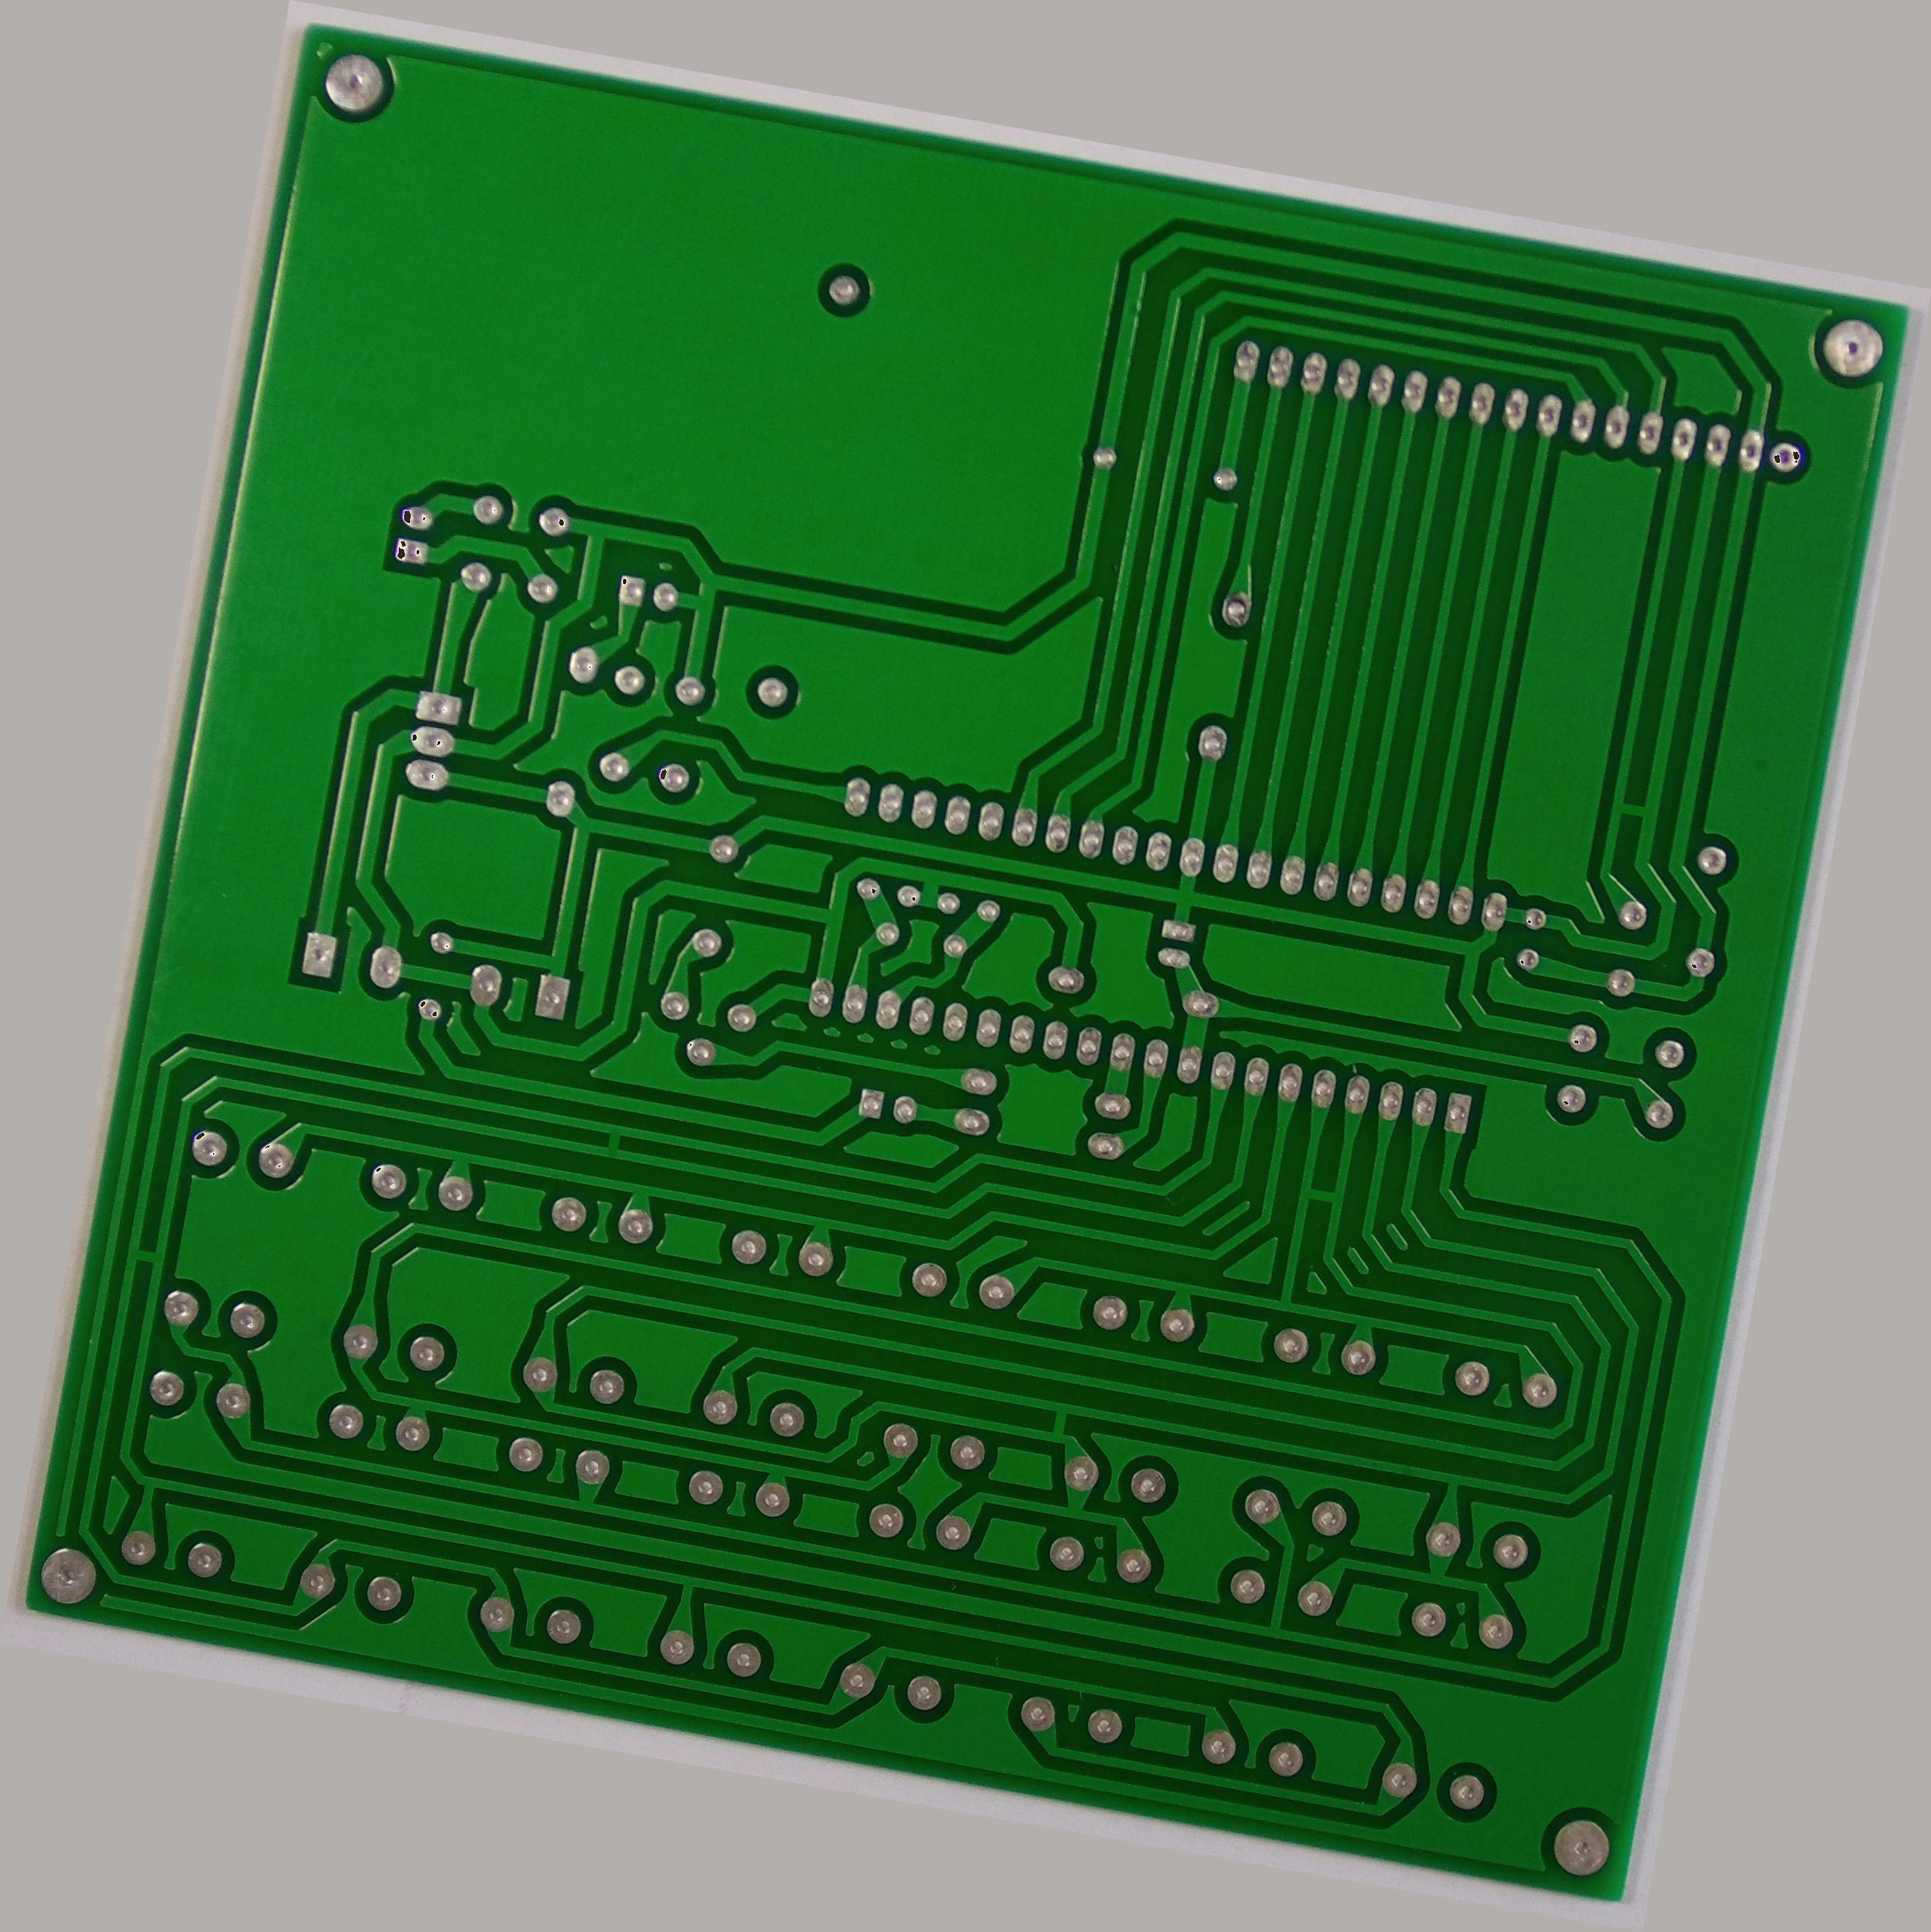short: (1284, 1169, 1355, 1224), (117, 1230, 177, 1279), (1604, 784, 1662, 832), (1034, 1396, 1082, 1451), (592, 1113, 635, 1162)
